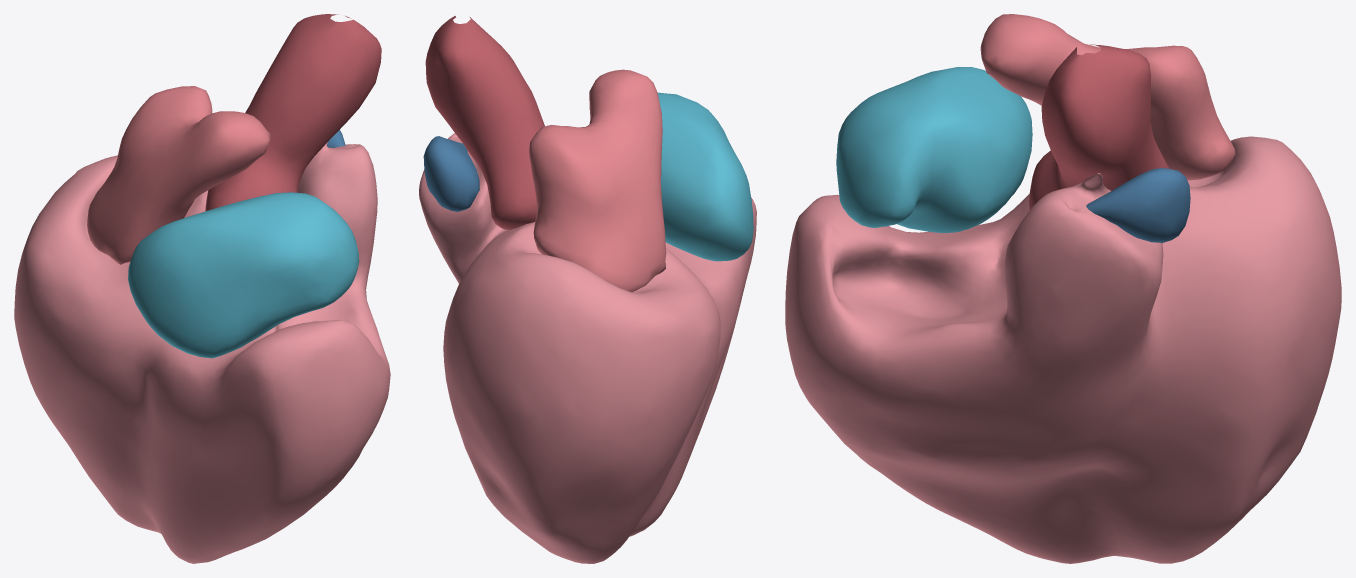
File: frame_45.glb
The picture shows the model from 3 angles, left to right: view 1: azimuth 30°, elevation 25°; view 2: azimuth 150°, elevation 25°; view 3: azimuth 270°, elevation 25°; orthographic projection. The views are drawn at different scales.
Parts seen in each view (by area): view 1: Renderer Node; view 2: Renderer Node; view 3: Renderer Node.
Part boxes in pixels (x1,y1,x2,y2): Renderer Node: (14, 14, 390, 563); Renderer Node: (419, 16, 756, 563); Renderer Node: (785, 14, 1341, 563).
Bounding box in the file's own units: 107 × 164 × 136.
